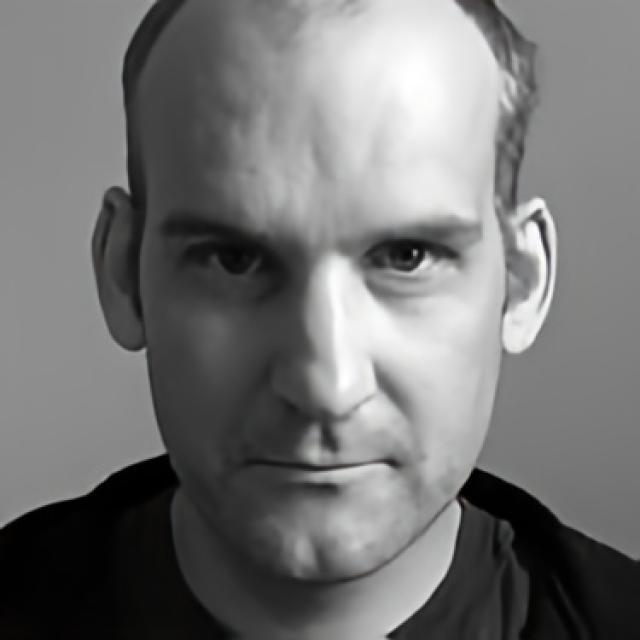anger: (140, 63, 503, 587)
